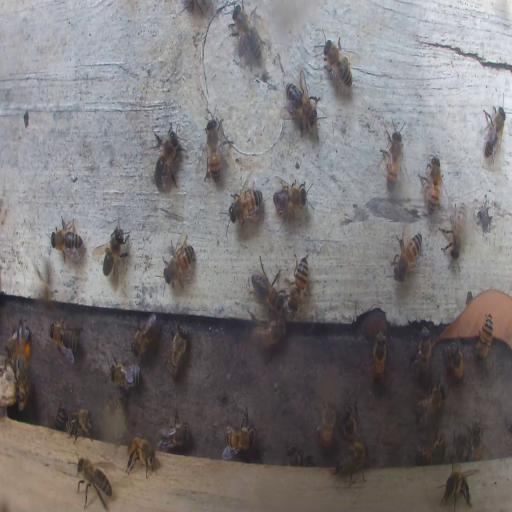bee: (282, 71, 324, 130), (97, 222, 130, 284), (230, 4, 265, 62), (75, 456, 113, 508), (153, 125, 182, 193), (163, 233, 196, 291), (249, 259, 285, 312), (438, 457, 474, 510), (322, 34, 355, 91), (380, 116, 404, 191), (390, 230, 423, 284), (332, 444, 368, 488), (50, 215, 84, 261), (480, 106, 506, 166), (272, 178, 310, 218), (443, 200, 468, 260), (48, 317, 82, 361), (204, 112, 224, 184), (222, 412, 256, 454), (415, 380, 446, 426), (125, 437, 159, 478), (229, 186, 264, 225), (409, 324, 433, 380), (166, 324, 190, 376), (8, 316, 31, 370), (157, 412, 189, 450), (250, 316, 285, 350), (289, 253, 309, 312), (422, 156, 442, 214), (108, 354, 140, 390), (132, 316, 160, 356), (317, 398, 337, 452), (66, 409, 94, 444), (464, 420, 486, 460), (371, 331, 387, 386), (416, 435, 446, 464), (476, 314, 493, 362), (444, 341, 464, 381), (15, 349, 28, 410), (341, 402, 359, 442), (286, 446, 309, 466), (55, 406, 68, 430)
